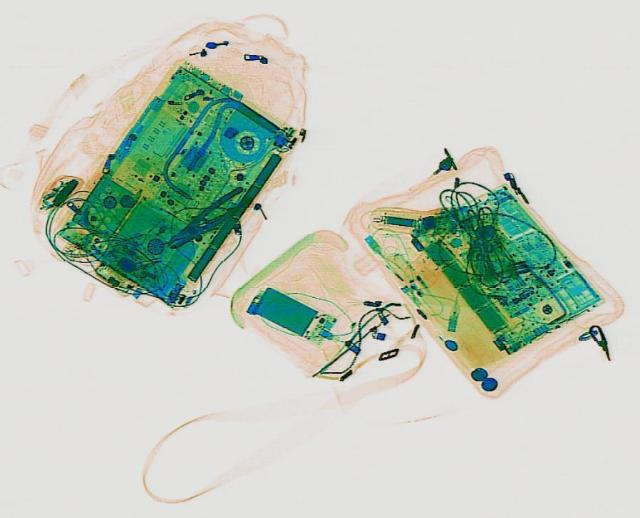Pliers: (156, 183, 254, 251)
